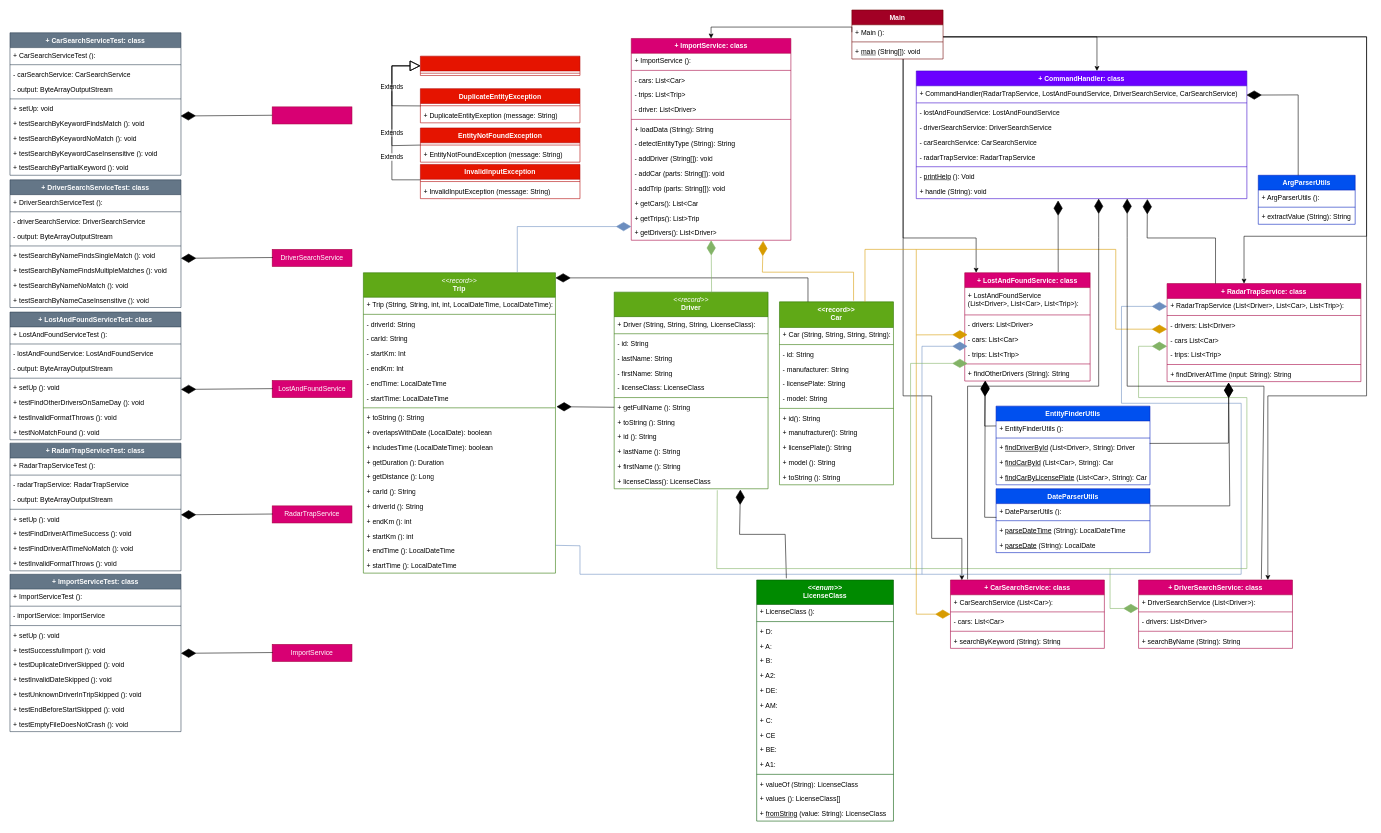
This 1381x833 diagram has some shape labels left out. Here are the shapes that lost their labels. From the top down, the centre of each, then its label:
the point at 500,66: RuntimeException
the point at 312,115: CarSearchService
